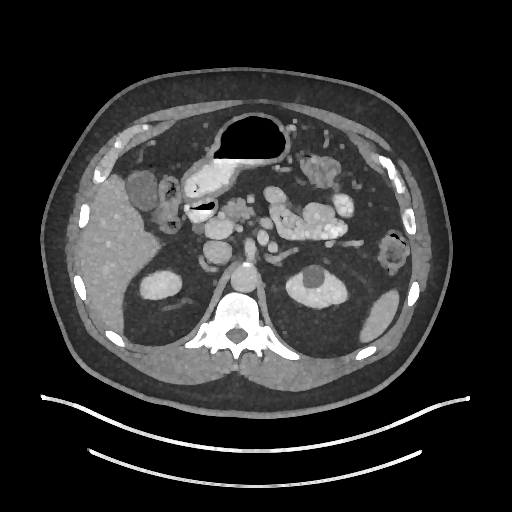Lesion: (294, 262, 330, 290)
